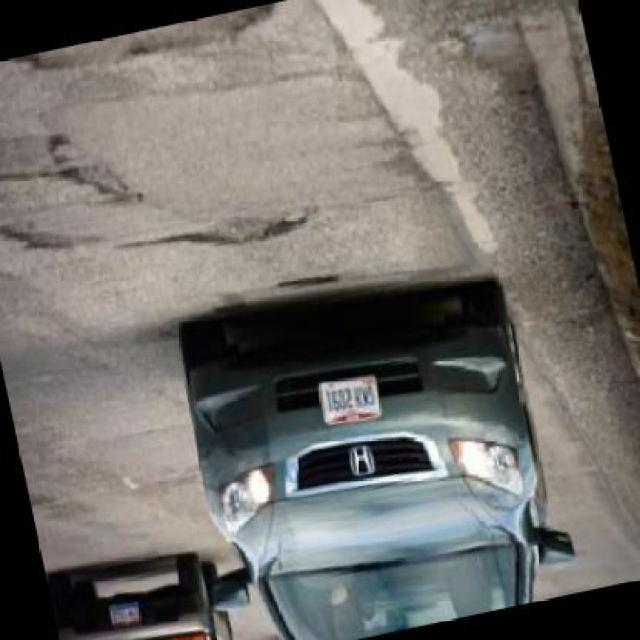pothole: (18, 2, 288, 88), (189, 194, 317, 258)
